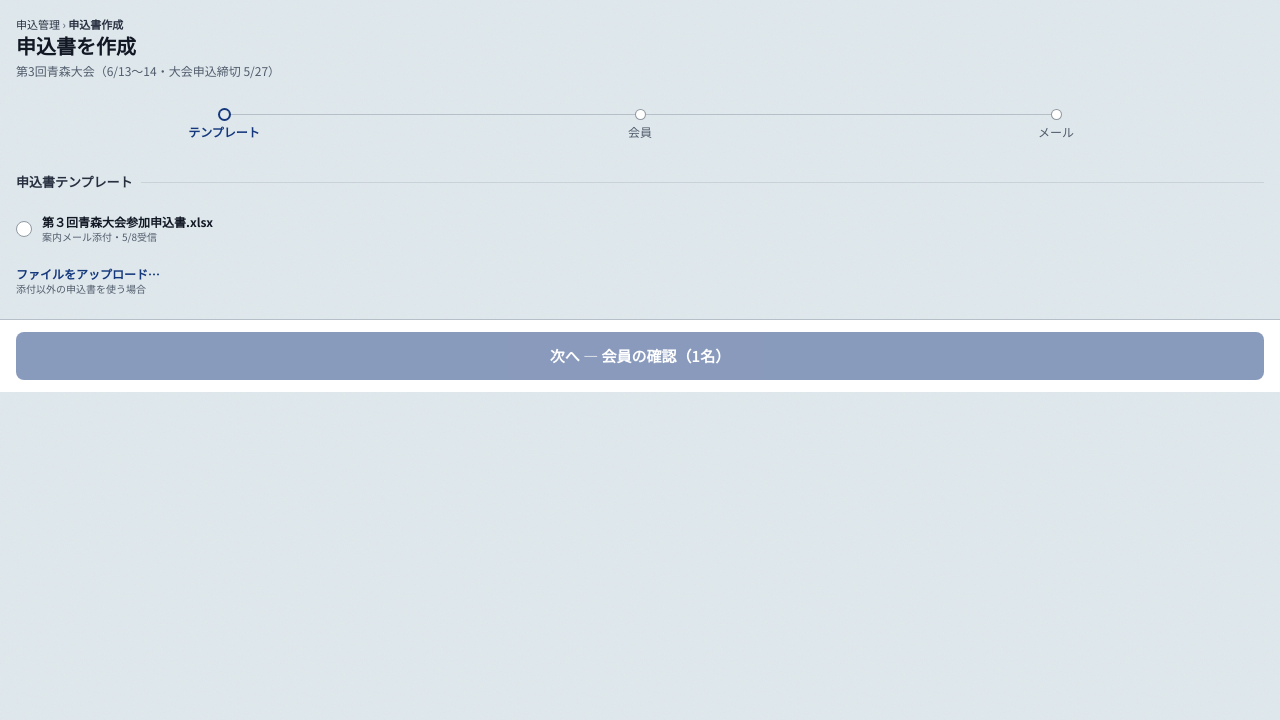
Test: EntryFormWizard — 一連のフロー › createEntryFormDraftAction が imap_failed を返すと失敗画面に遷移し、ダウンロードリンクが出る
This screenshot has width=1280, height=720.
Click the text "第３回青森大会参加申込書.xlsx" at x=128, y=222, box [42,213,213,230]
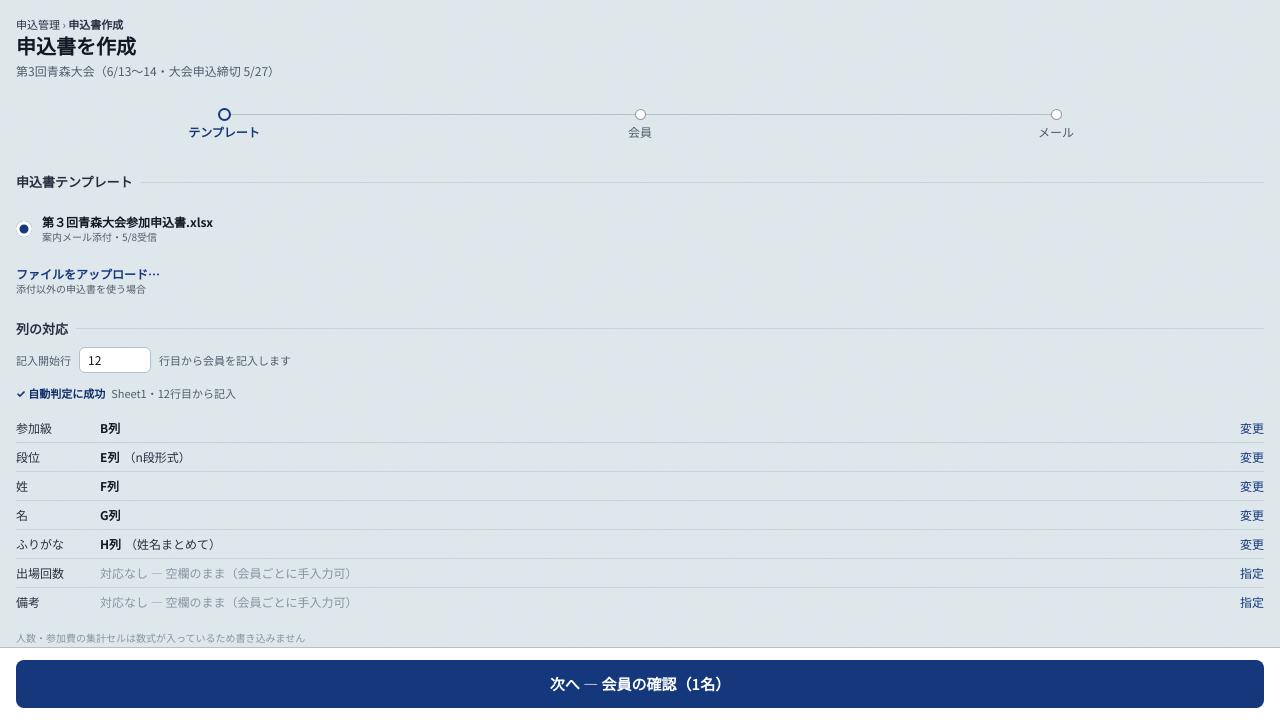
Check: the text "✓ 自動判定に成功" is shown, box [16,385,105,402]
Click the button "次へ — 会員の確認（1名）" at x=640, y=684, box [16,660,1264,708]
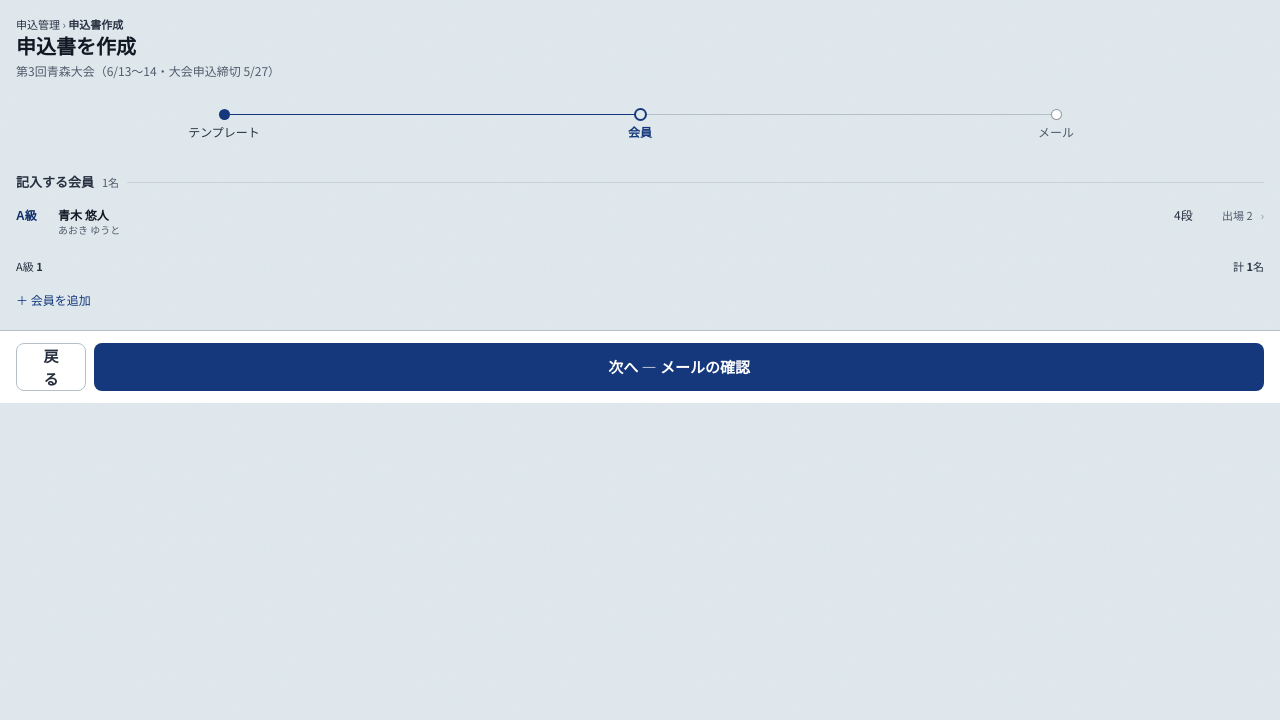
Check: the text "青木 悠人" is shown, box [58,206,109,223]
Click the button "次へ — メールの確認" at x=679, y=367, box [94,343,1264,391]
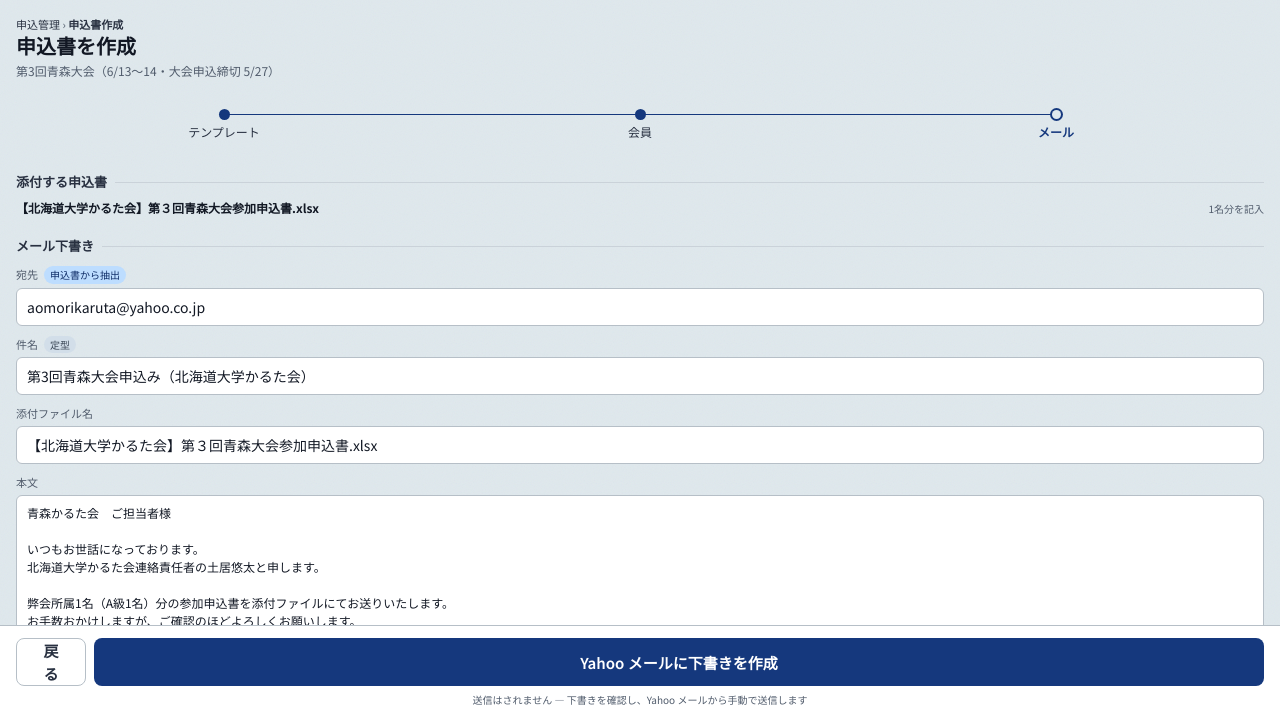
Check: the field showing "aomorikaruta@yahoo.co.jp" is shown, box [16,288,1264,326]
Click the button "Yahoo メールに下書きを作成" at x=679, y=662, box [94,638,1264,686]
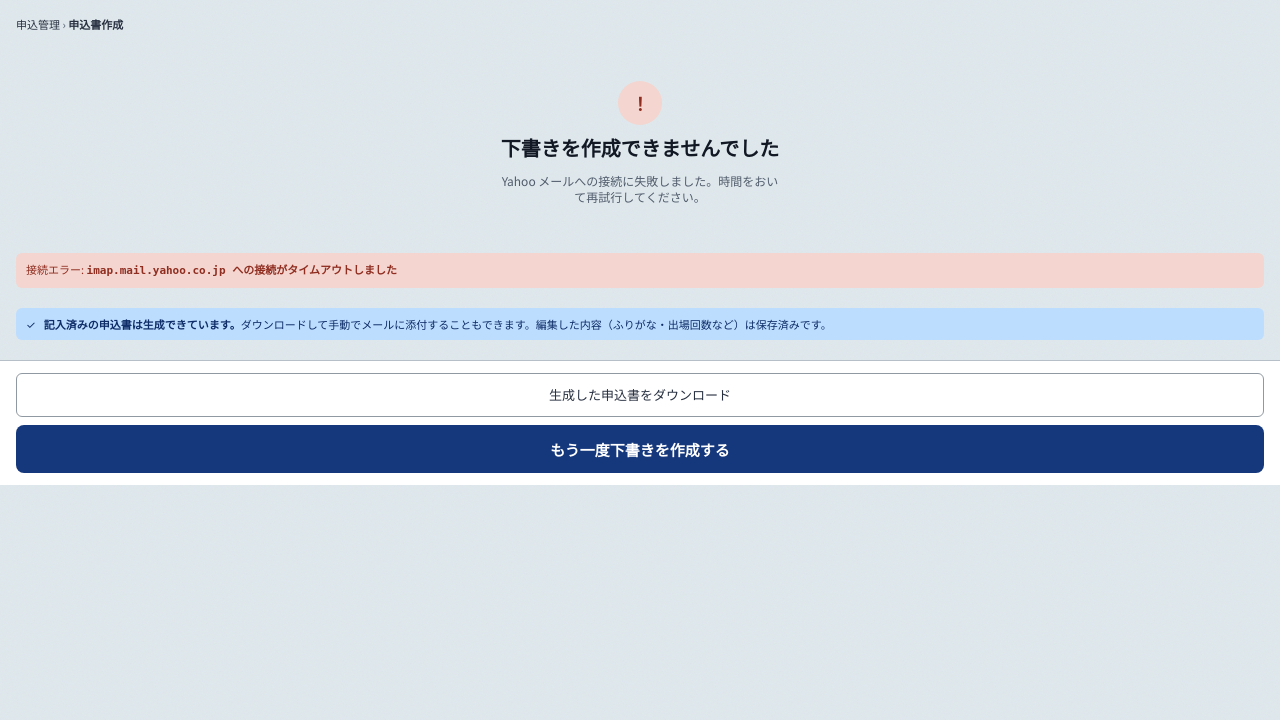
Check: the heading "下書きを作成できませんでした" is shown, box [501,135,779,163]
